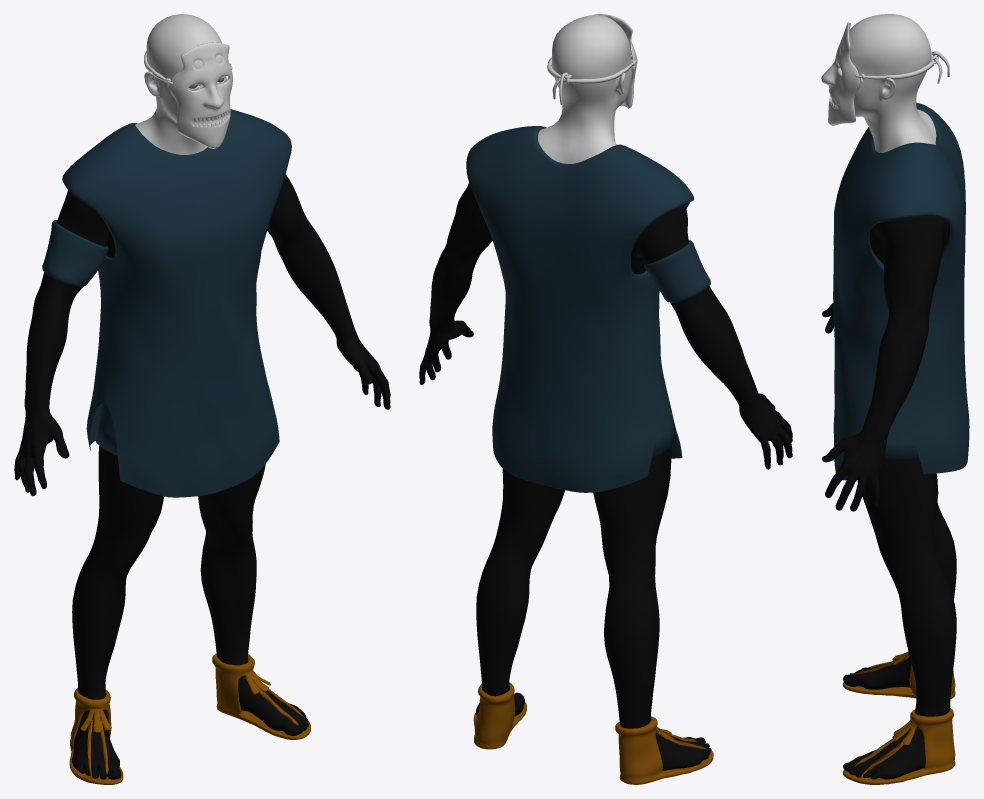
The model's file is PJ Teotlac.fbx.
The picture shows the model from 3 angles, left to right: view 1: azimuth 30°, elevation 25°; view 2: azimuth 150°, elevation 25°; view 3: azimuth 270°, elevation 25°; orthographic projection.
Parts seen in each view (by area): view 1: Poncho, Legs (×2), Arms, Head, Mask, Sandals, Bracelet; view 2: Poncho, Legs (×2), Arms, Head, Sandals, Bracelet, Mask; view 3: Poncho, Legs (×2), Arms, Head, Sandals, Mask.
Boxes of the visible parts, x1,y1,x2,y2 form: Poncho: (62, 109, 291, 497); Legs (×2): (71, 402, 308, 779); Arms: (14, 174, 390, 496); Head: (135, 14, 226, 154); Mask: (144, 42, 232, 148); Sandals: (69, 653, 310, 784); Bracelet: (42, 220, 108, 286); Poncho: (466, 126, 693, 492); Legs (×2): (476, 406, 711, 770); Arms: (419, 183, 792, 469); Head: (538, 15, 631, 163); Sandals: (473, 682, 713, 784); Bracelet: (644, 240, 710, 303); Mask: (547, 14, 637, 108); Poncho: (833, 102, 969, 480); Legs (×2): (843, 416, 956, 779); Arms: (822, 216, 950, 511); Head: (849, 14, 936, 152); Sandals: (842, 651, 955, 784); Mask: (821, 22, 949, 125).
Size of the model in its own units: 91.74 by 176 by 33.07.
